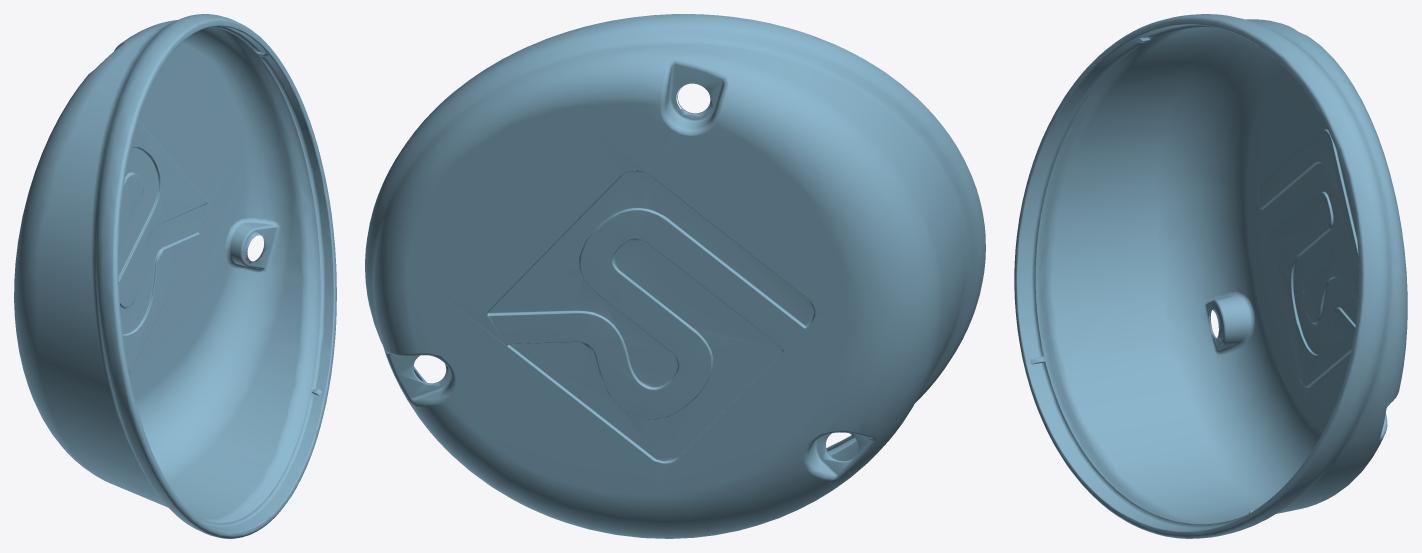
File: Joint_3_Cover.fbx
3 views of the same model, side by side, from view 1: azimuth 30°, elevation 25°; view 2: azimuth 150°, elevation 25°; view 3: azimuth 270°, elevation 25° (orthographic). The views are drawn at different scales.
Visible parts, largest first — view 1: Joint_3.006; view 2: Joint_3.006; view 3: Joint_3.006.
Boxes of the visible parts, x1,y1,x2,y2 form: Joint_3.006: [14, 14, 336, 538]; Joint_3.006: [365, 14, 985, 538]; Joint_3.006: [1014, 14, 1407, 538].
Bounding box in the file's own units: 8.47 × 9.4 × 7.11.
